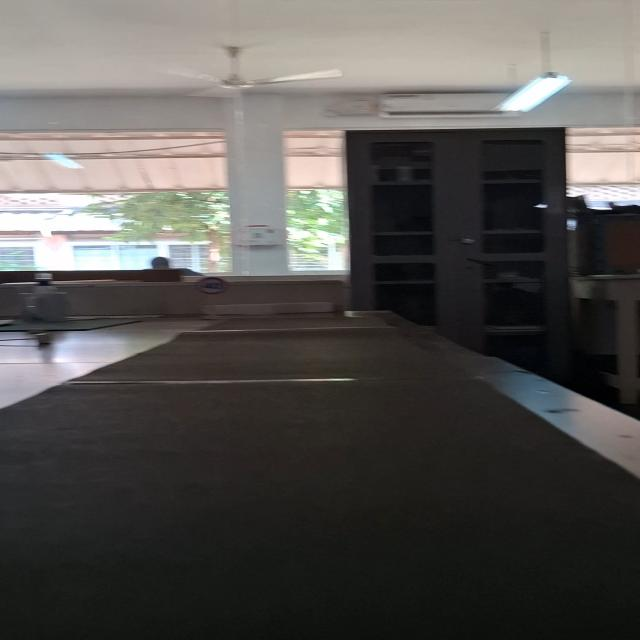Speed40: (194, 276, 232, 295)
